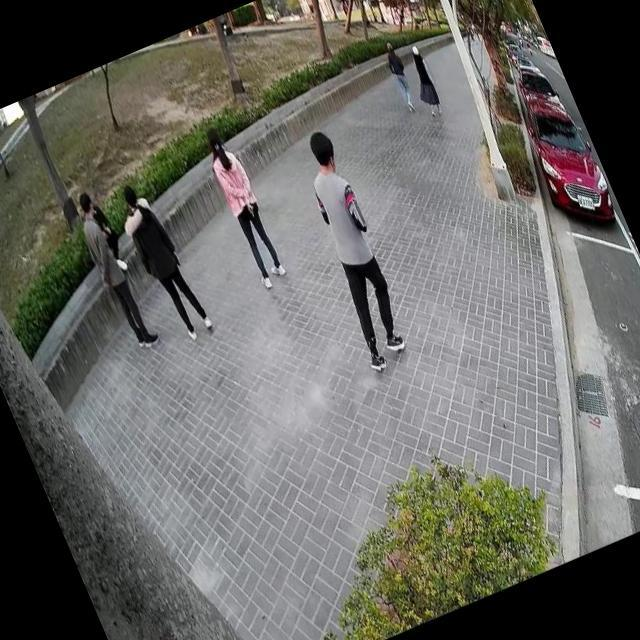person: (273, 121, 427, 381), (104, 170, 216, 350), (192, 116, 293, 293), (65, 182, 164, 358), (394, 35, 450, 125), (375, 36, 424, 117)
